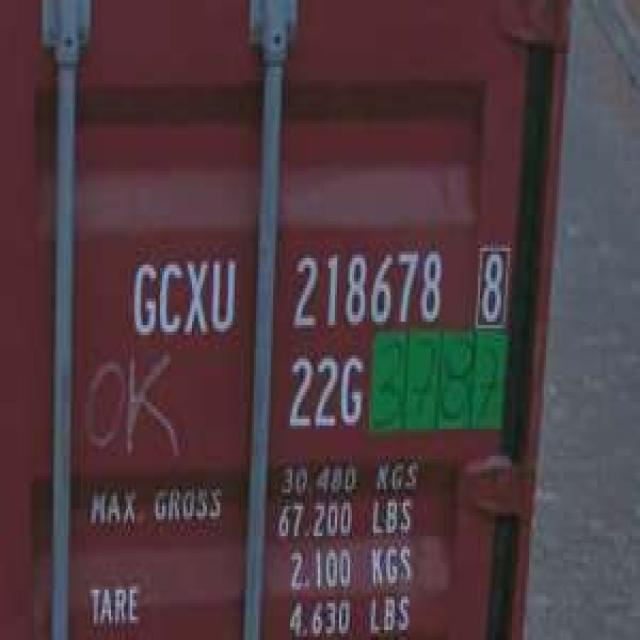dv: (471, 235, 512, 335)
owner: (126, 245, 239, 345)
serial: (286, 238, 446, 335)
size: (282, 345, 367, 436)
